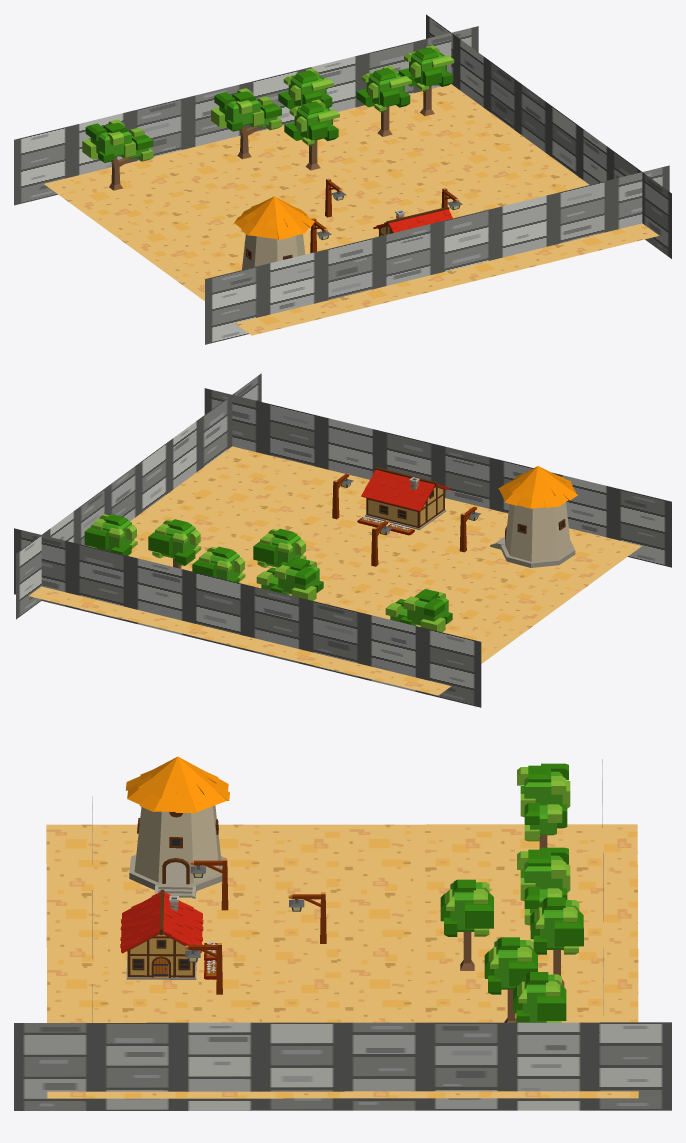
The model's file is ground.FBX.
3 views of the same model, one above another, from view 1: azimuth 30°, elevation 25°; view 2: azimuth 150°, elevation 25°; view 3: azimuth 270°, elevation 25° (orthographic). The views are drawn at different scales.
Visible parts, largest first — view 1: Floor_Soil_01, Floor_StonePaving_004, Floor_StonePaving_003, Floor_StonePaving_002, Windmill_01, Tree_02, Tree_003, Tree.007, Tree.006, Tree.004, Tree.005, House_01; view 2: Floor_Soil_01, Floor_StonePaving_003, Floor_StonePaving_004, Floor_StonePaving_002, Windmill_01, House_01, Tree_003, Tree_02, Tree.007, Tree.004, Tree.006, Tree.005; view 3: Floor_Soil_01, Floor_StonePaving_002, Windmill_01, House_01, Tree_02, Tree.006, Tree.005, Tree_003, Tree.007, Tree.004, Lantern_002, Lantern_003 (+1 smaller).
Part boxes in pixels (left/top/right/bottom): Floor_Soil_01: left=44, top=84, right=658, bottom=335; Floor_StonePaving_004: left=205, top=165, right=669, bottom=344; Floor_StonePaving_003: left=14, top=26, right=478, bottom=205; Floor_StonePaving_002: left=426, top=14, right=671, bottom=258; Windmill_01: left=234, top=196, right=314, bottom=269; Tree_02: left=82, top=119, right=153, bottom=190; Tree_003: left=211, top=88, right=281, bottom=159; Tree.007: left=356, top=66, right=411, bottom=136; Tree.006: left=284, top=99, right=339, bottom=170; Tree.004: left=398, top=45, right=454, bottom=116; Tree.005: left=278, top=68, right=333, bottom=109; House_01: left=373, top=206, right=452, bottom=236; Floor_Soil_01: left=29, top=446, right=641, bottom=695; Floor_StonePaving_003: left=14, top=528, right=481, bottom=707; Floor_StonePaving_004: left=204, top=388, right=671, bottom=567; Floor_StonePaving_002: left=16, top=373, right=261, bottom=619; Windmill_01: left=490, top=466, right=577, bottom=567; House_01: left=361, top=467, right=450, bottom=529; Tree_003: left=256, top=557, right=323, bottom=600; Tree_02: left=385, top=589, right=452, bottom=632; Tree.007: left=148, top=519, right=201, bottom=568; Tree.004: left=84, top=514, right=137, bottom=555; Tree.006: left=253, top=528, right=306, bottom=594; Tree.005: left=192, top=546, right=245, bottom=582; Floor_Soil_01: left=46, top=824, right=638, bottom=1098; Floor_StonePaving_002: left=14, top=1022, right=671, bottom=1110; Windmill_01: left=125, top=756, right=229, bottom=898; House_01: left=120, top=889, right=203, bottom=979; Tree_02: left=517, top=763, right=570, bottom=849; Tree.006: left=440, top=879, right=493, bottom=970; Tree.005: left=530, top=897, right=583, bottom=986; Tree_003: left=517, top=847, right=570, bottom=925; Tree.007: left=484, top=937, right=537, bottom=1022; Tree.004: left=513, top=972, right=566, bottom=1022; Lantern_002: left=190, top=858, right=228, bottom=910; Lantern_003: left=288, top=892, right=326, bottom=943.
Bounding box in the file's own units: 4067 × 3712 × 837.
